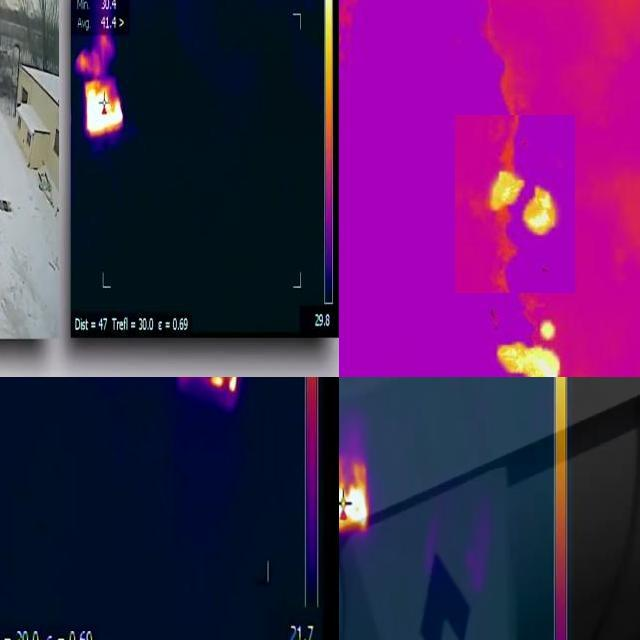fire: (485, 165, 563, 243), (491, 323, 568, 378), (340, 453, 368, 537), (87, 80, 125, 138), (210, 378, 246, 392)
